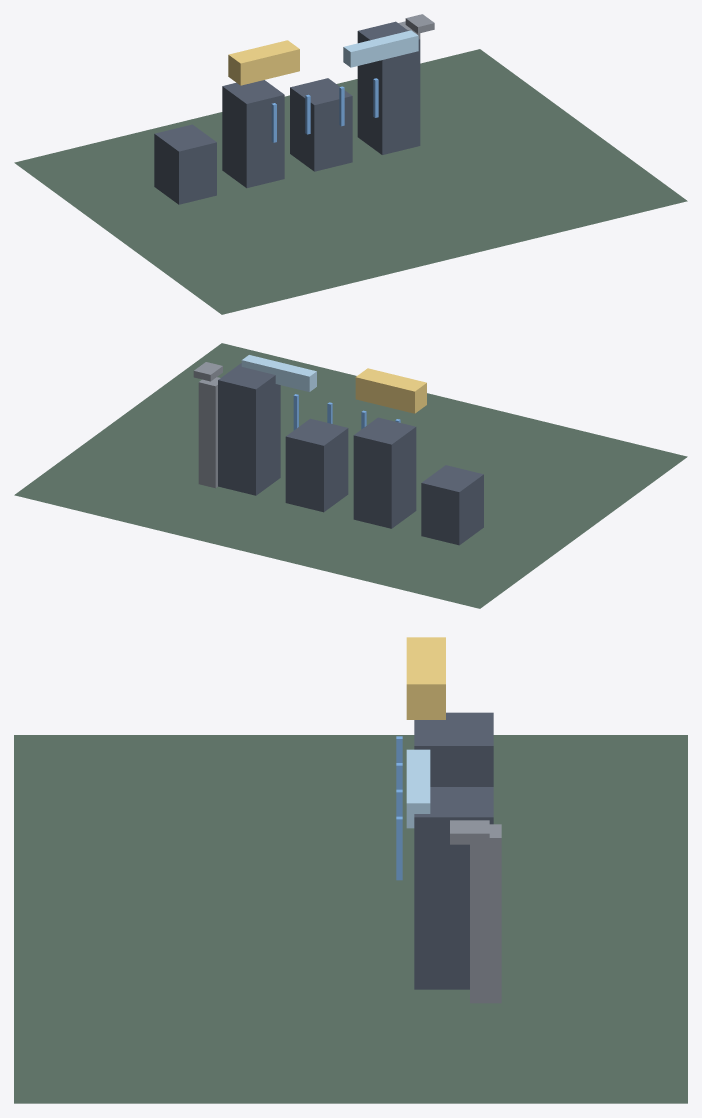
The model's file is world.glb.
3 views of the same model, one above another, from view 1: azimuth 30°, elevation 25°; view 2: azimuth 150°, elevation 25°; view 3: azimuth 270°, elevation 25° (orthographic). The views are drawn at different scales.
Parts seen in each view (by area): view 1: weather_opaque_mesh, weather_emissive_mesh; view 2: weather_opaque_mesh, weather_emissive_mesh; view 3: weather_opaque_mesh, weather_emissive_mesh.
Part boxes in pixels (x1,y1,x2,y2): weather_opaque_mesh: [14, 14, 687, 314]; weather_emissive_mesh: [228, 30, 418, 142]; weather_opaque_mesh: [14, 343, 687, 608]; weather_emissive_mesh: [241, 355, 426, 430]; weather_opaque_mesh: [14, 712, 687, 1103]; weather_emissive_mesh: [396, 637, 445, 880].
Size of the model in its own units: 11 by 2.9 by 8.5.
